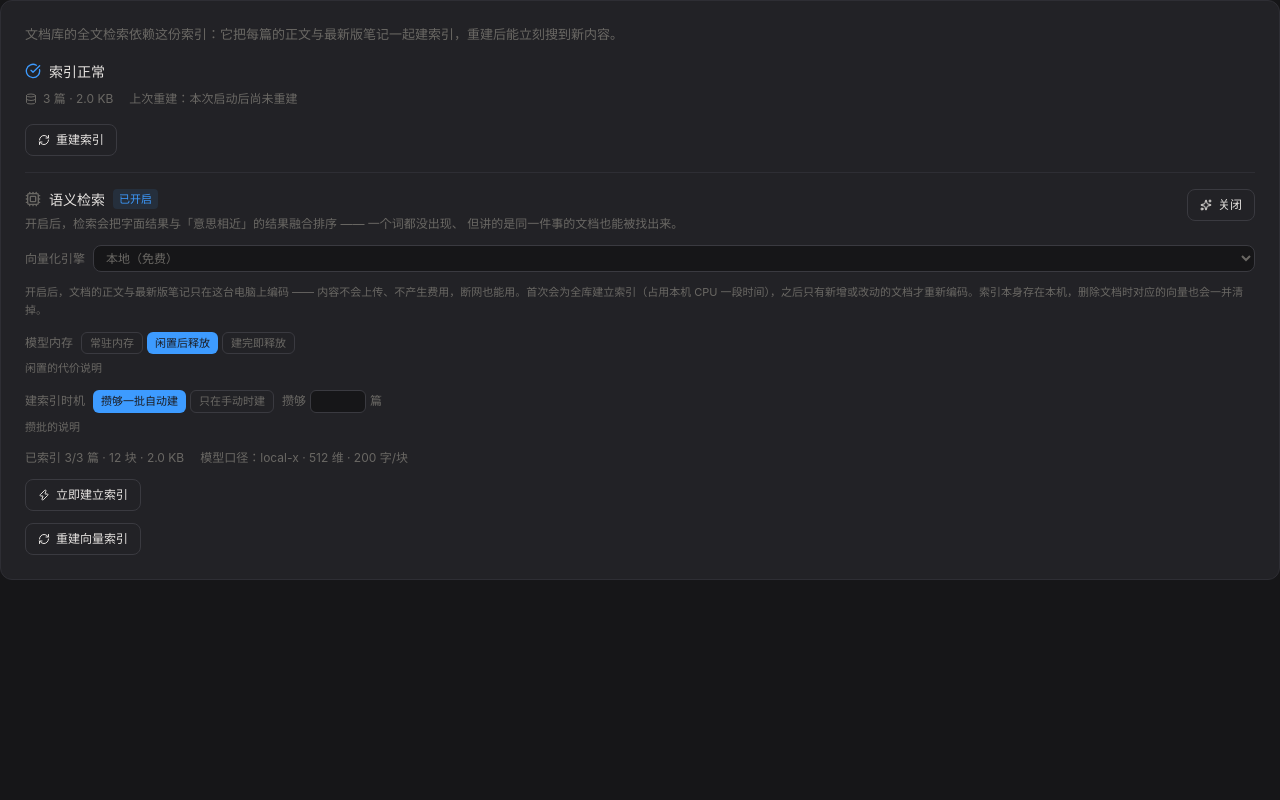
Test: SearchIndexCard — 建索引的进度与完成提示 › 字面索引重建成功 → 给一句明确的收尾（失败则不给）
The image size is (1280, 800).
Check: the element that starts with "语义检索" is shown, box [25,172,1255,554]
What coordinates should you click on to do the following:
click the button "重建索引"
I would click on:
 (71, 140)
Its box is [25,124,117,156].
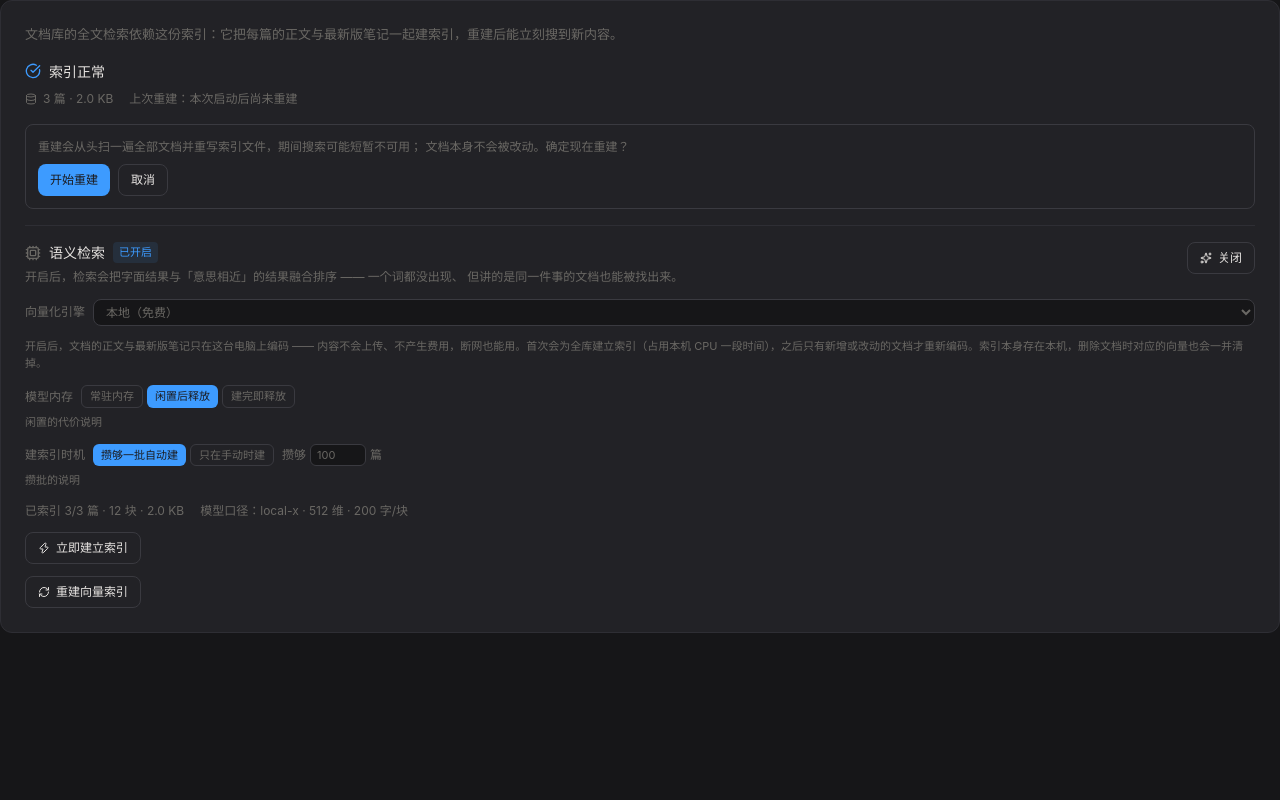
What coordinates should you click on to do the following:
click the button "开始重建"
I would click on:
 (74, 180)
Its box is [38,164,110,196].
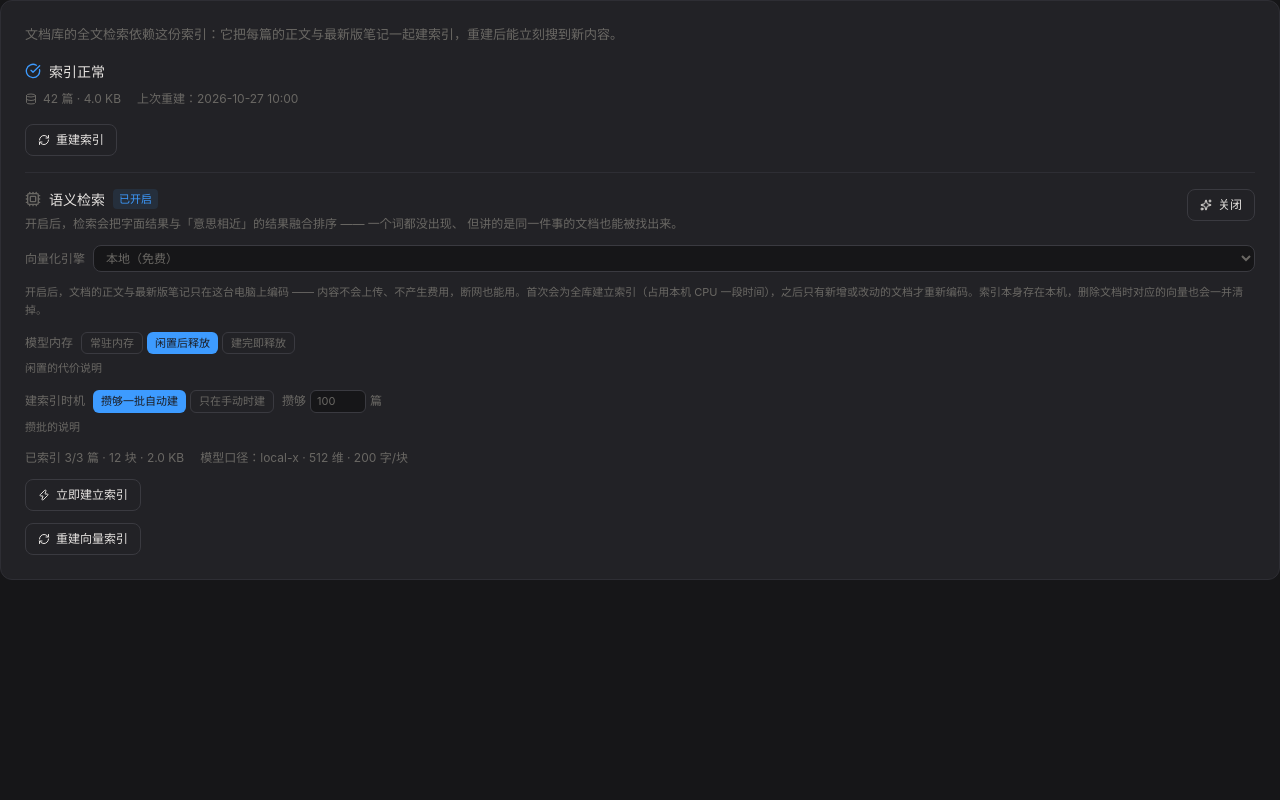
What coordinates should you click on to do the following:
click the button "重建索引"
I would click on:
 (71, 140)
Its box is [25,124,117,156].
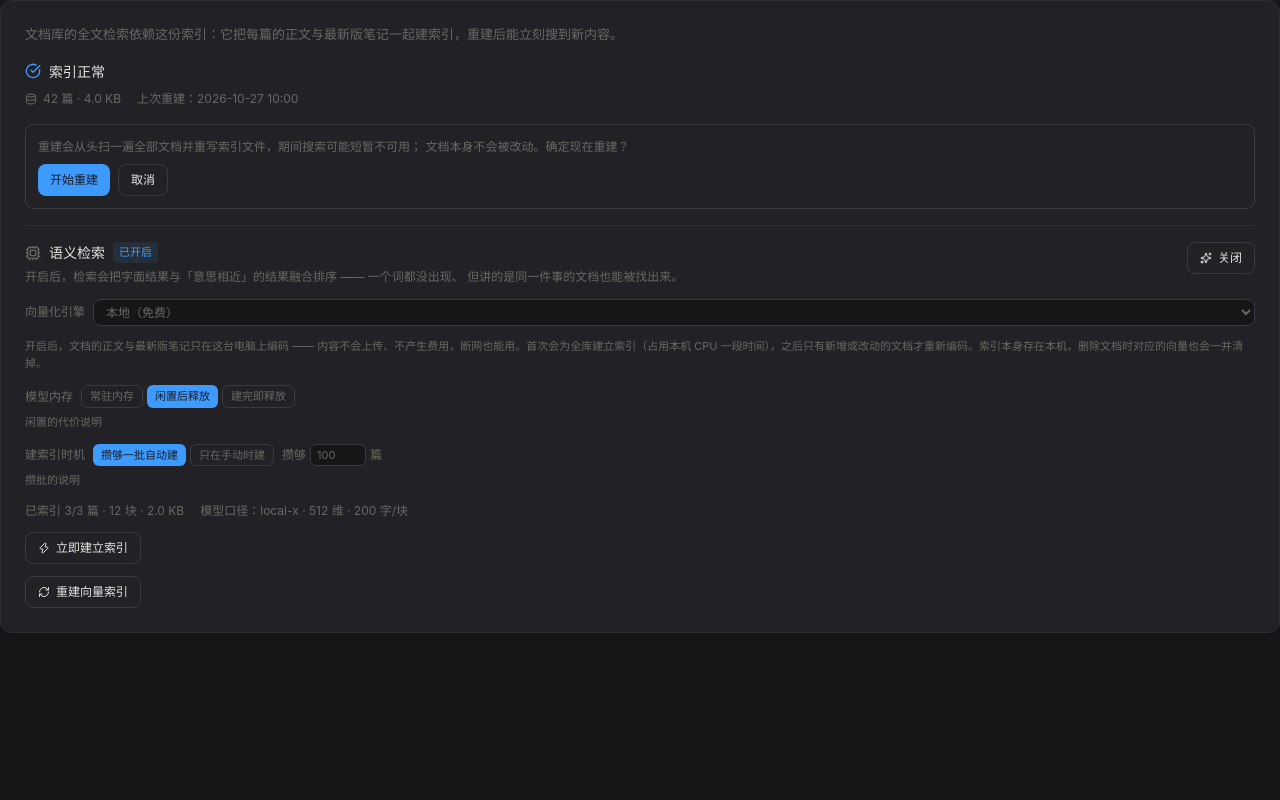
What coordinates should you click on to do the following:
click the button "开始重建"
I would click on:
 (74, 180)
Its box is [38,164,110,196].
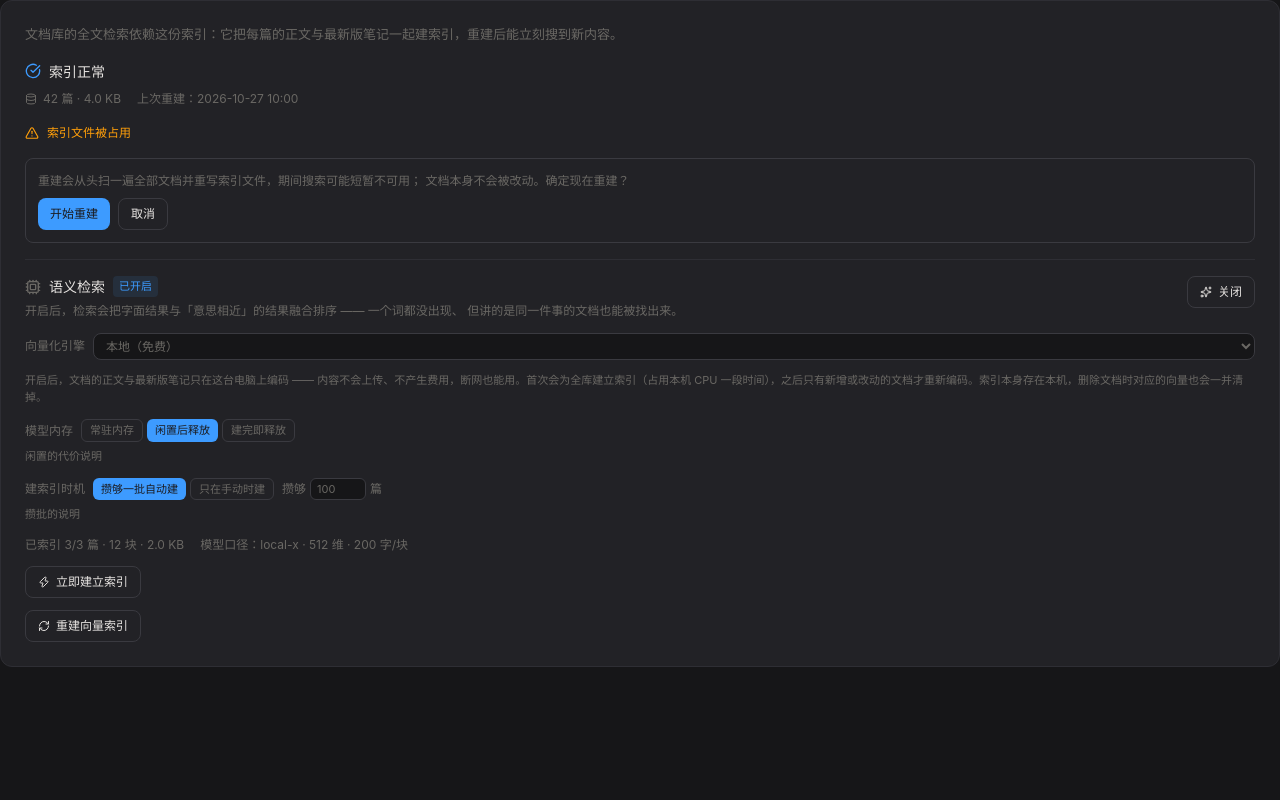
Check: the text "索引文件被占用" is shown, box [25,124,131,140]
